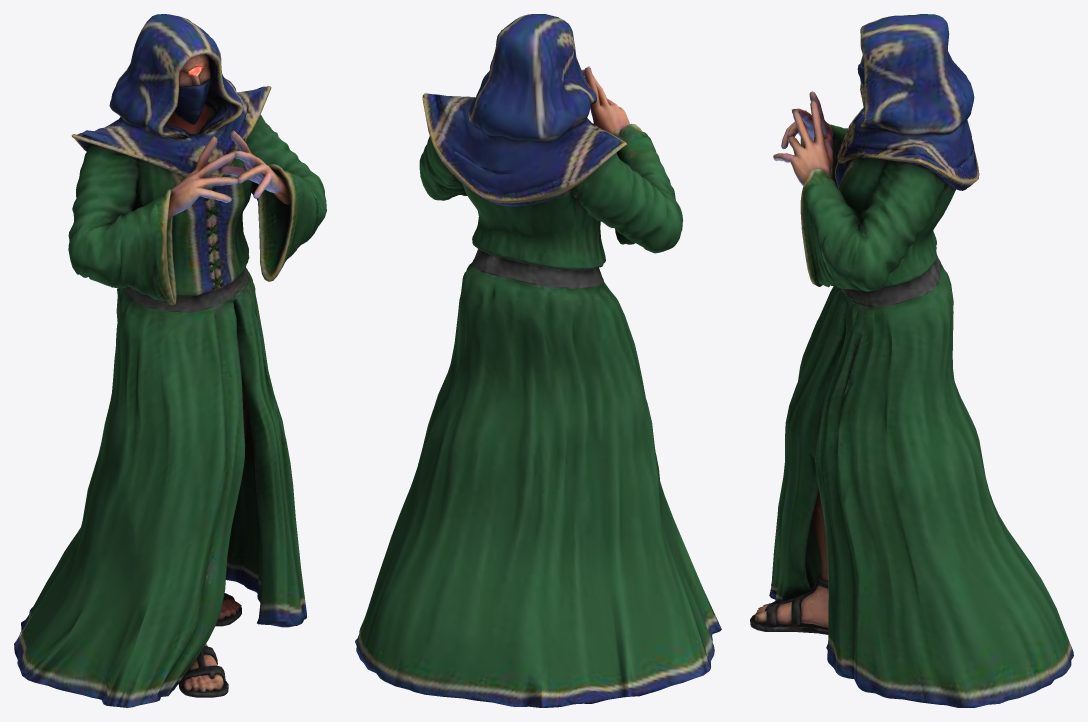
Rendered from MZ4250 - Cyclops Oracle_2025.glb.
3 renders of one model, left to right at view 1: azimuth 30°, elevation 25°; view 2: azimuth 150°, elevation 25°; view 3: azimuth 270°, elevation 25°, orthographic. The views are drawn at different scales.
Parts seen in each view (by area): view 1: Body.002; view 2: Body.002; view 3: Body.002.
Boxes of the visible parts, bbox=[...] form: Body.002: bbox=[14, 14, 326, 707]; Body.002: bbox=[355, 14, 721, 707]; Body.002: bbox=[750, 14, 1073, 707].
Bounding box in the file's own units: 123 × 241 × 113.
1 material, 1 textured.
